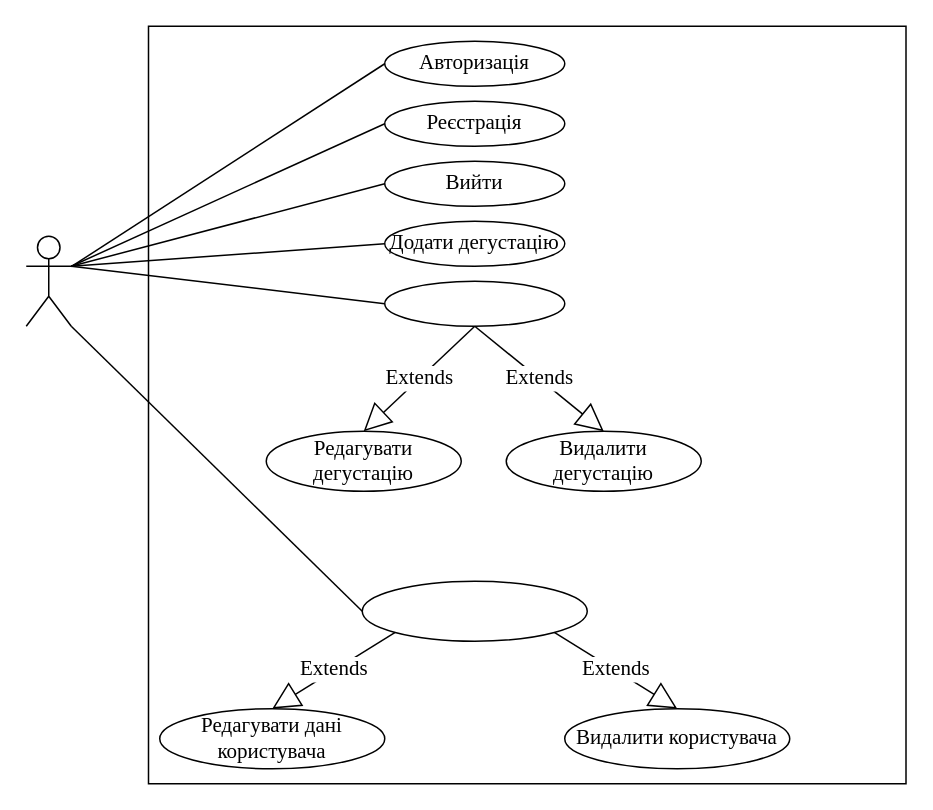
Some shapes in this 933 by 810 pixel diagram are drawn without their labels. The shapes that lost their labels are listed below. From the top down, each one's box as (x1, y1, x2, y2) in pixels, then its label:
(25, 235, 71, 326): Actor
(383, 280, 565, 326): Переглянути дегустацію
(361, 580, 587, 641): Переглянути дані користувача
